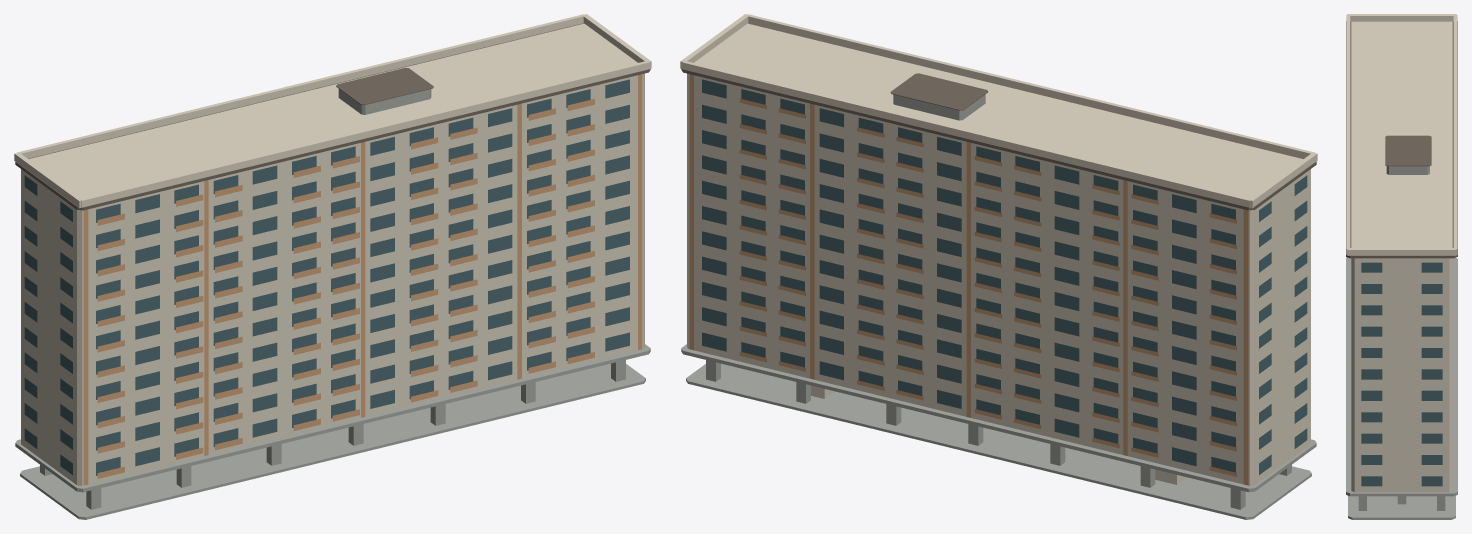
Rendered from building_hdb.glb.
3 renders of one model, left to right at view 1: azimuth 30°, elevation 25°; view 2: azimuth 150°, elevation 25°; view 3: azimuth 270°, elevation 25°, orthographic. The views are drawn at different scales.
Visible parts, largest first — view 1: building_hdb; view 2: building_hdb; view 3: building_hdb.
Part boxes in pixels (left/top/right/bottom): building_hdb: left=14, top=14, right=651, bottom=519; building_hdb: left=680, top=14, right=1317, bottom=519; building_hdb: left=1346, top=14, right=1457, bottom=519.
Size of the model in its own units: 70 by 38 by 14.
